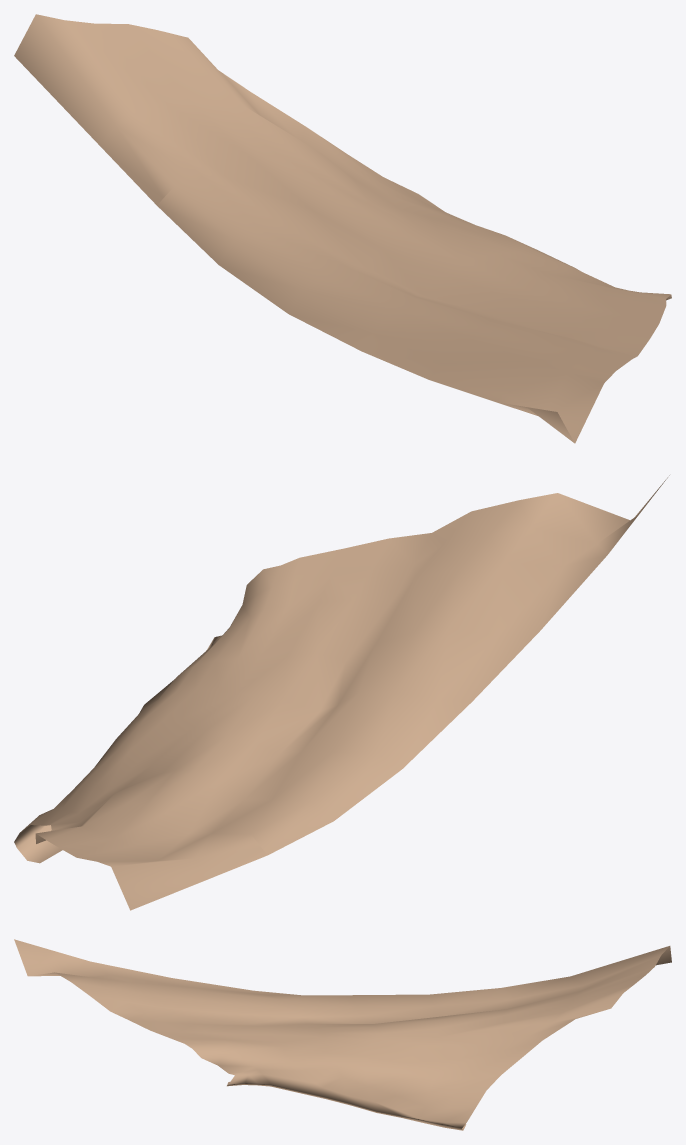
3 views of the same model, one above another, from view 1: azimuth 30°, elevation 25°; view 2: azimuth 150°, elevation 25°; view 3: azimuth 270°, elevation 25° (orthographic). The views are drawn at different scales.
Parts seen in each view (by area): view 1: 左侧胸腰筋膜后层; view 2: 左侧胸腰筋膜后层; view 3: 左侧胸腰筋膜后层.
Part boxes in pixels (x1=…): 左侧胸腰筋膜后层: x1=14, y1=14, x2=671, y2=443; 左侧胸腰筋膜后层: x1=14, y1=475, x2=669, y2=910; 左侧胸腰筋膜后层: x1=14, y1=939, x2=671, y2=1130.
Size of the model in its own units: 0.1058 by 0.0646 by 0.3473.
